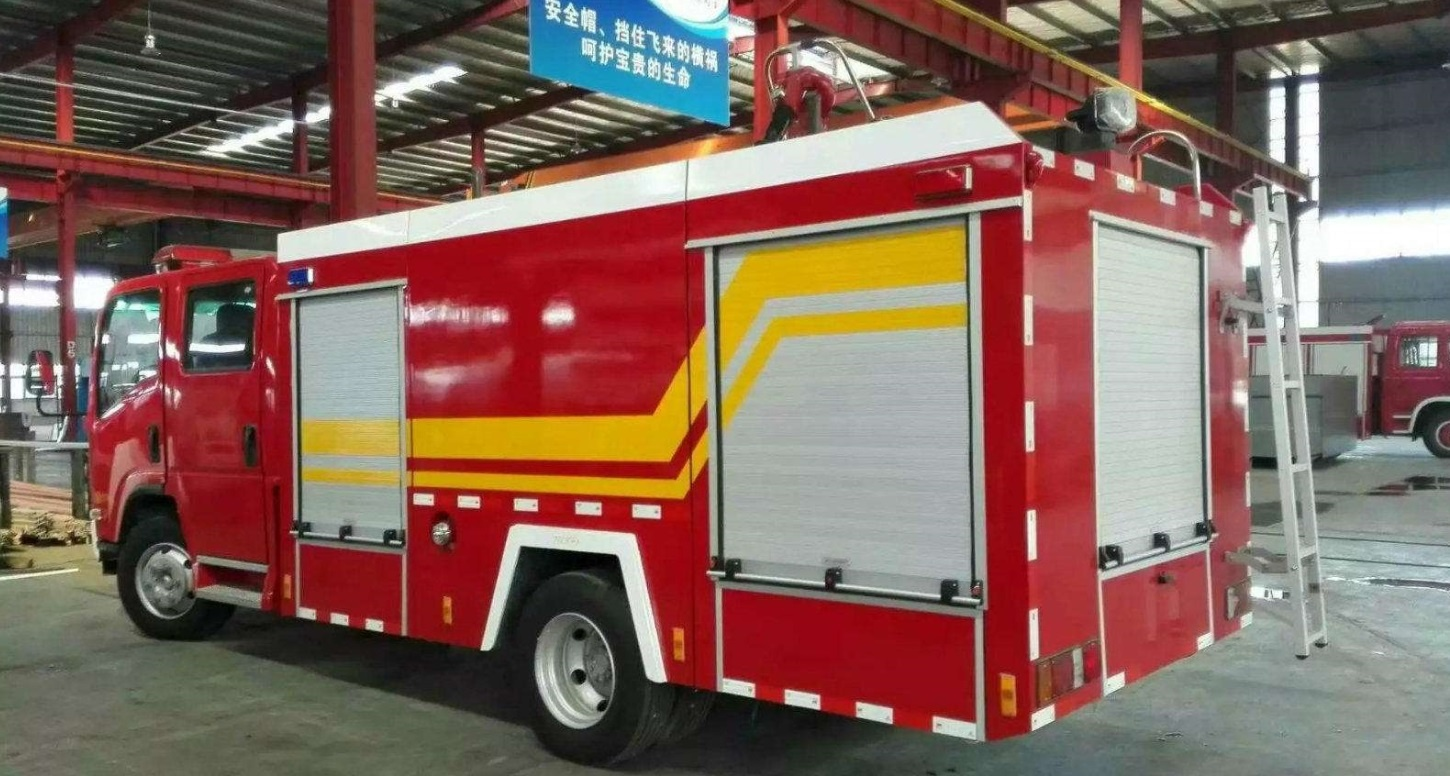fire engine: (69, 130, 1349, 776)
